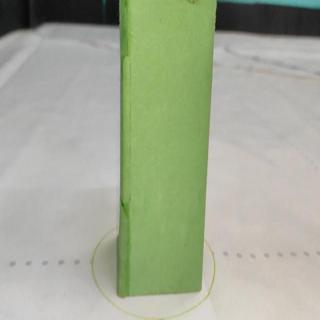greenbox: (119, 0, 207, 295)
